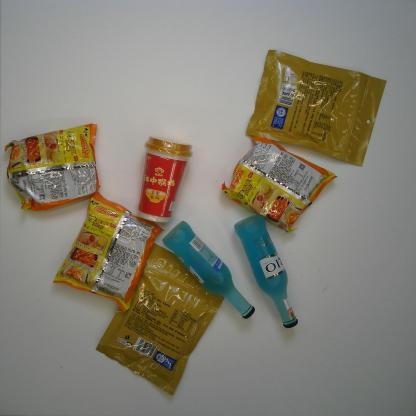Alcohol: (160, 219, 256, 320), (233, 213, 299, 330)
Dried Fruit: (94, 242, 231, 396), (245, 47, 387, 167)
Instant Drink: (135, 134, 195, 226)
Instant Noodles: (53, 190, 164, 314), (220, 135, 338, 235), (1, 121, 103, 213)
